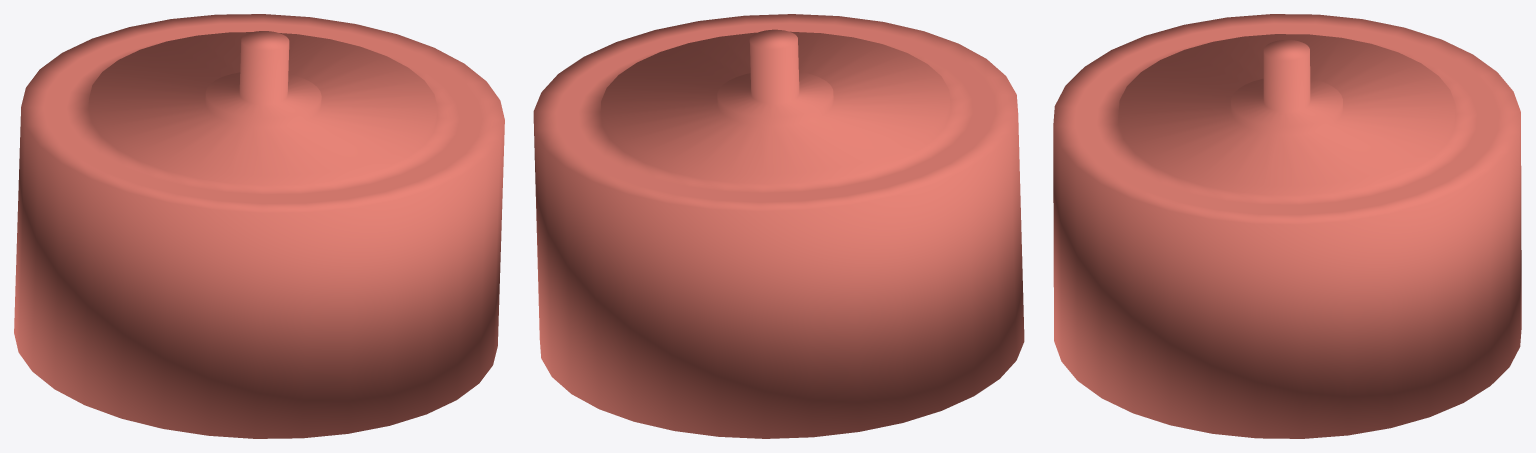
The model's file is circle.038_lev2.glb.
3 views of the same model, side by side, from view 1: azimuth 30°, elevation 25°; view 2: azimuth 150°, elevation 25°; view 3: azimuth 270°, elevation 25° (orthographic). The views are drawn at different scales.
Visible parts, largest first — view 1: circle.038_lev2; view 2: circle.038_lev2; view 3: circle.038_lev2.
Part boxes in pixels (x1=…): circle.038_lev2: x1=14, y1=14, x2=504, y2=438; circle.038_lev2: x1=533, y1=14, x2=1024, y2=438; circle.038_lev2: x1=1053, y1=14, x2=1521, y2=438.
Bounding box in the file's own units: 0.2113 × 0.1447 × 0.2085.
